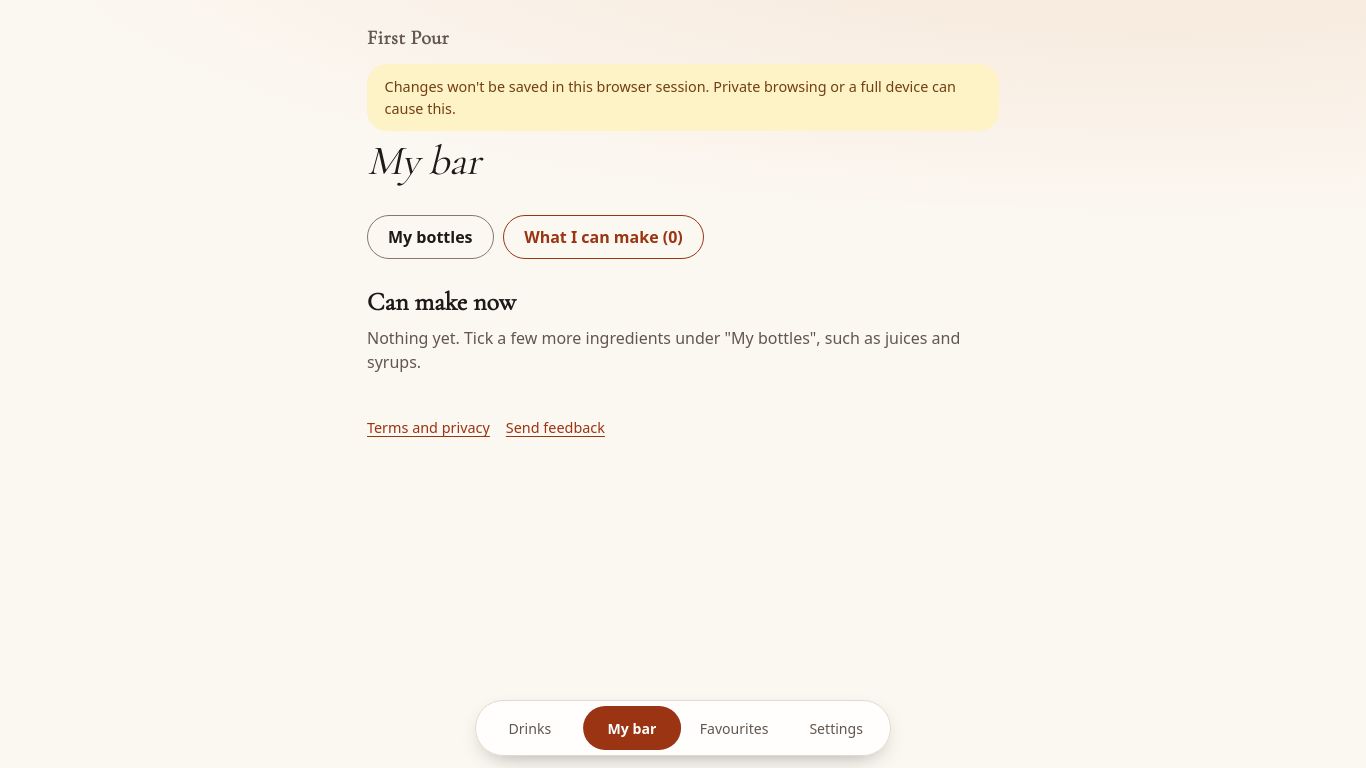
Test: can switch back to the bottle list
Expected: the heading "My bar" is shown, [367,136,480,186]
Click the button "My bottles": (430, 237) [367,215,494,259]
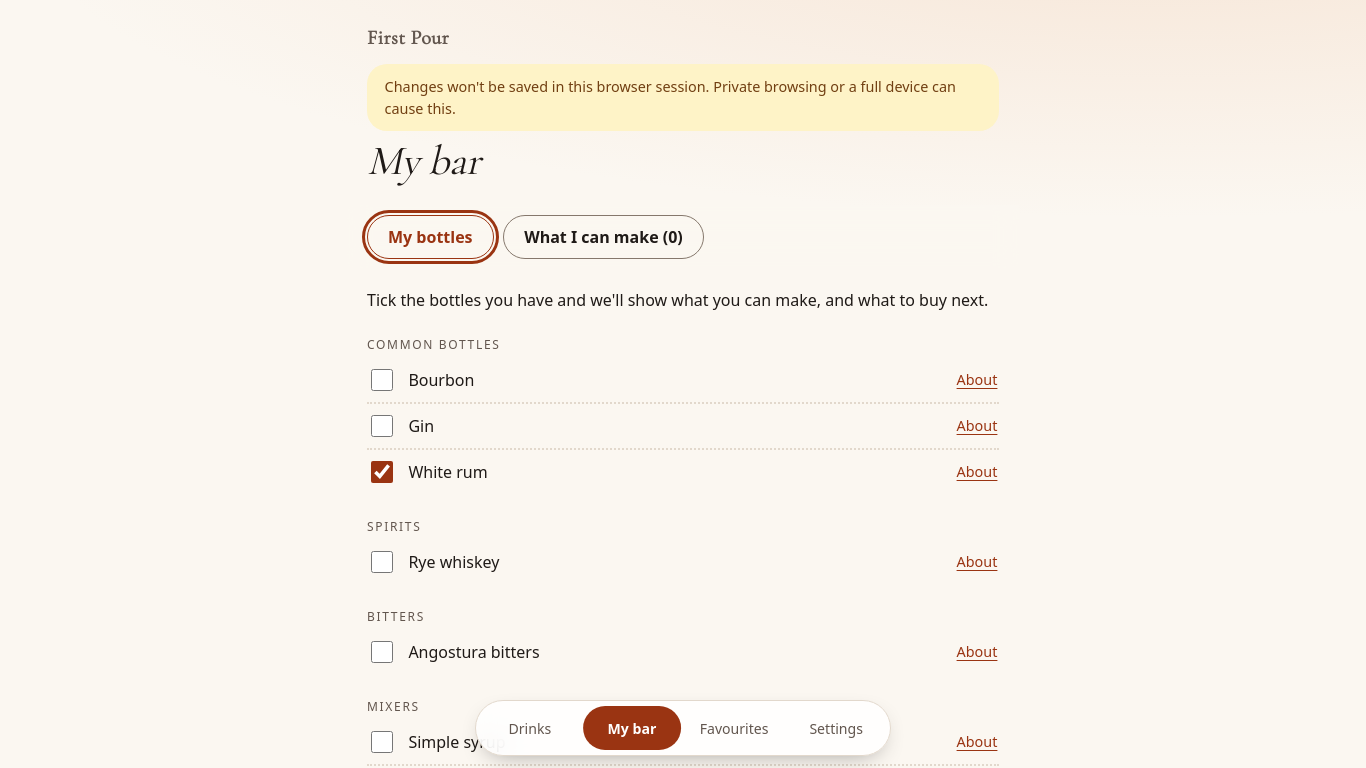
Expected: the checkbox labelled "White rum" is checked, [371,461,393,483]
